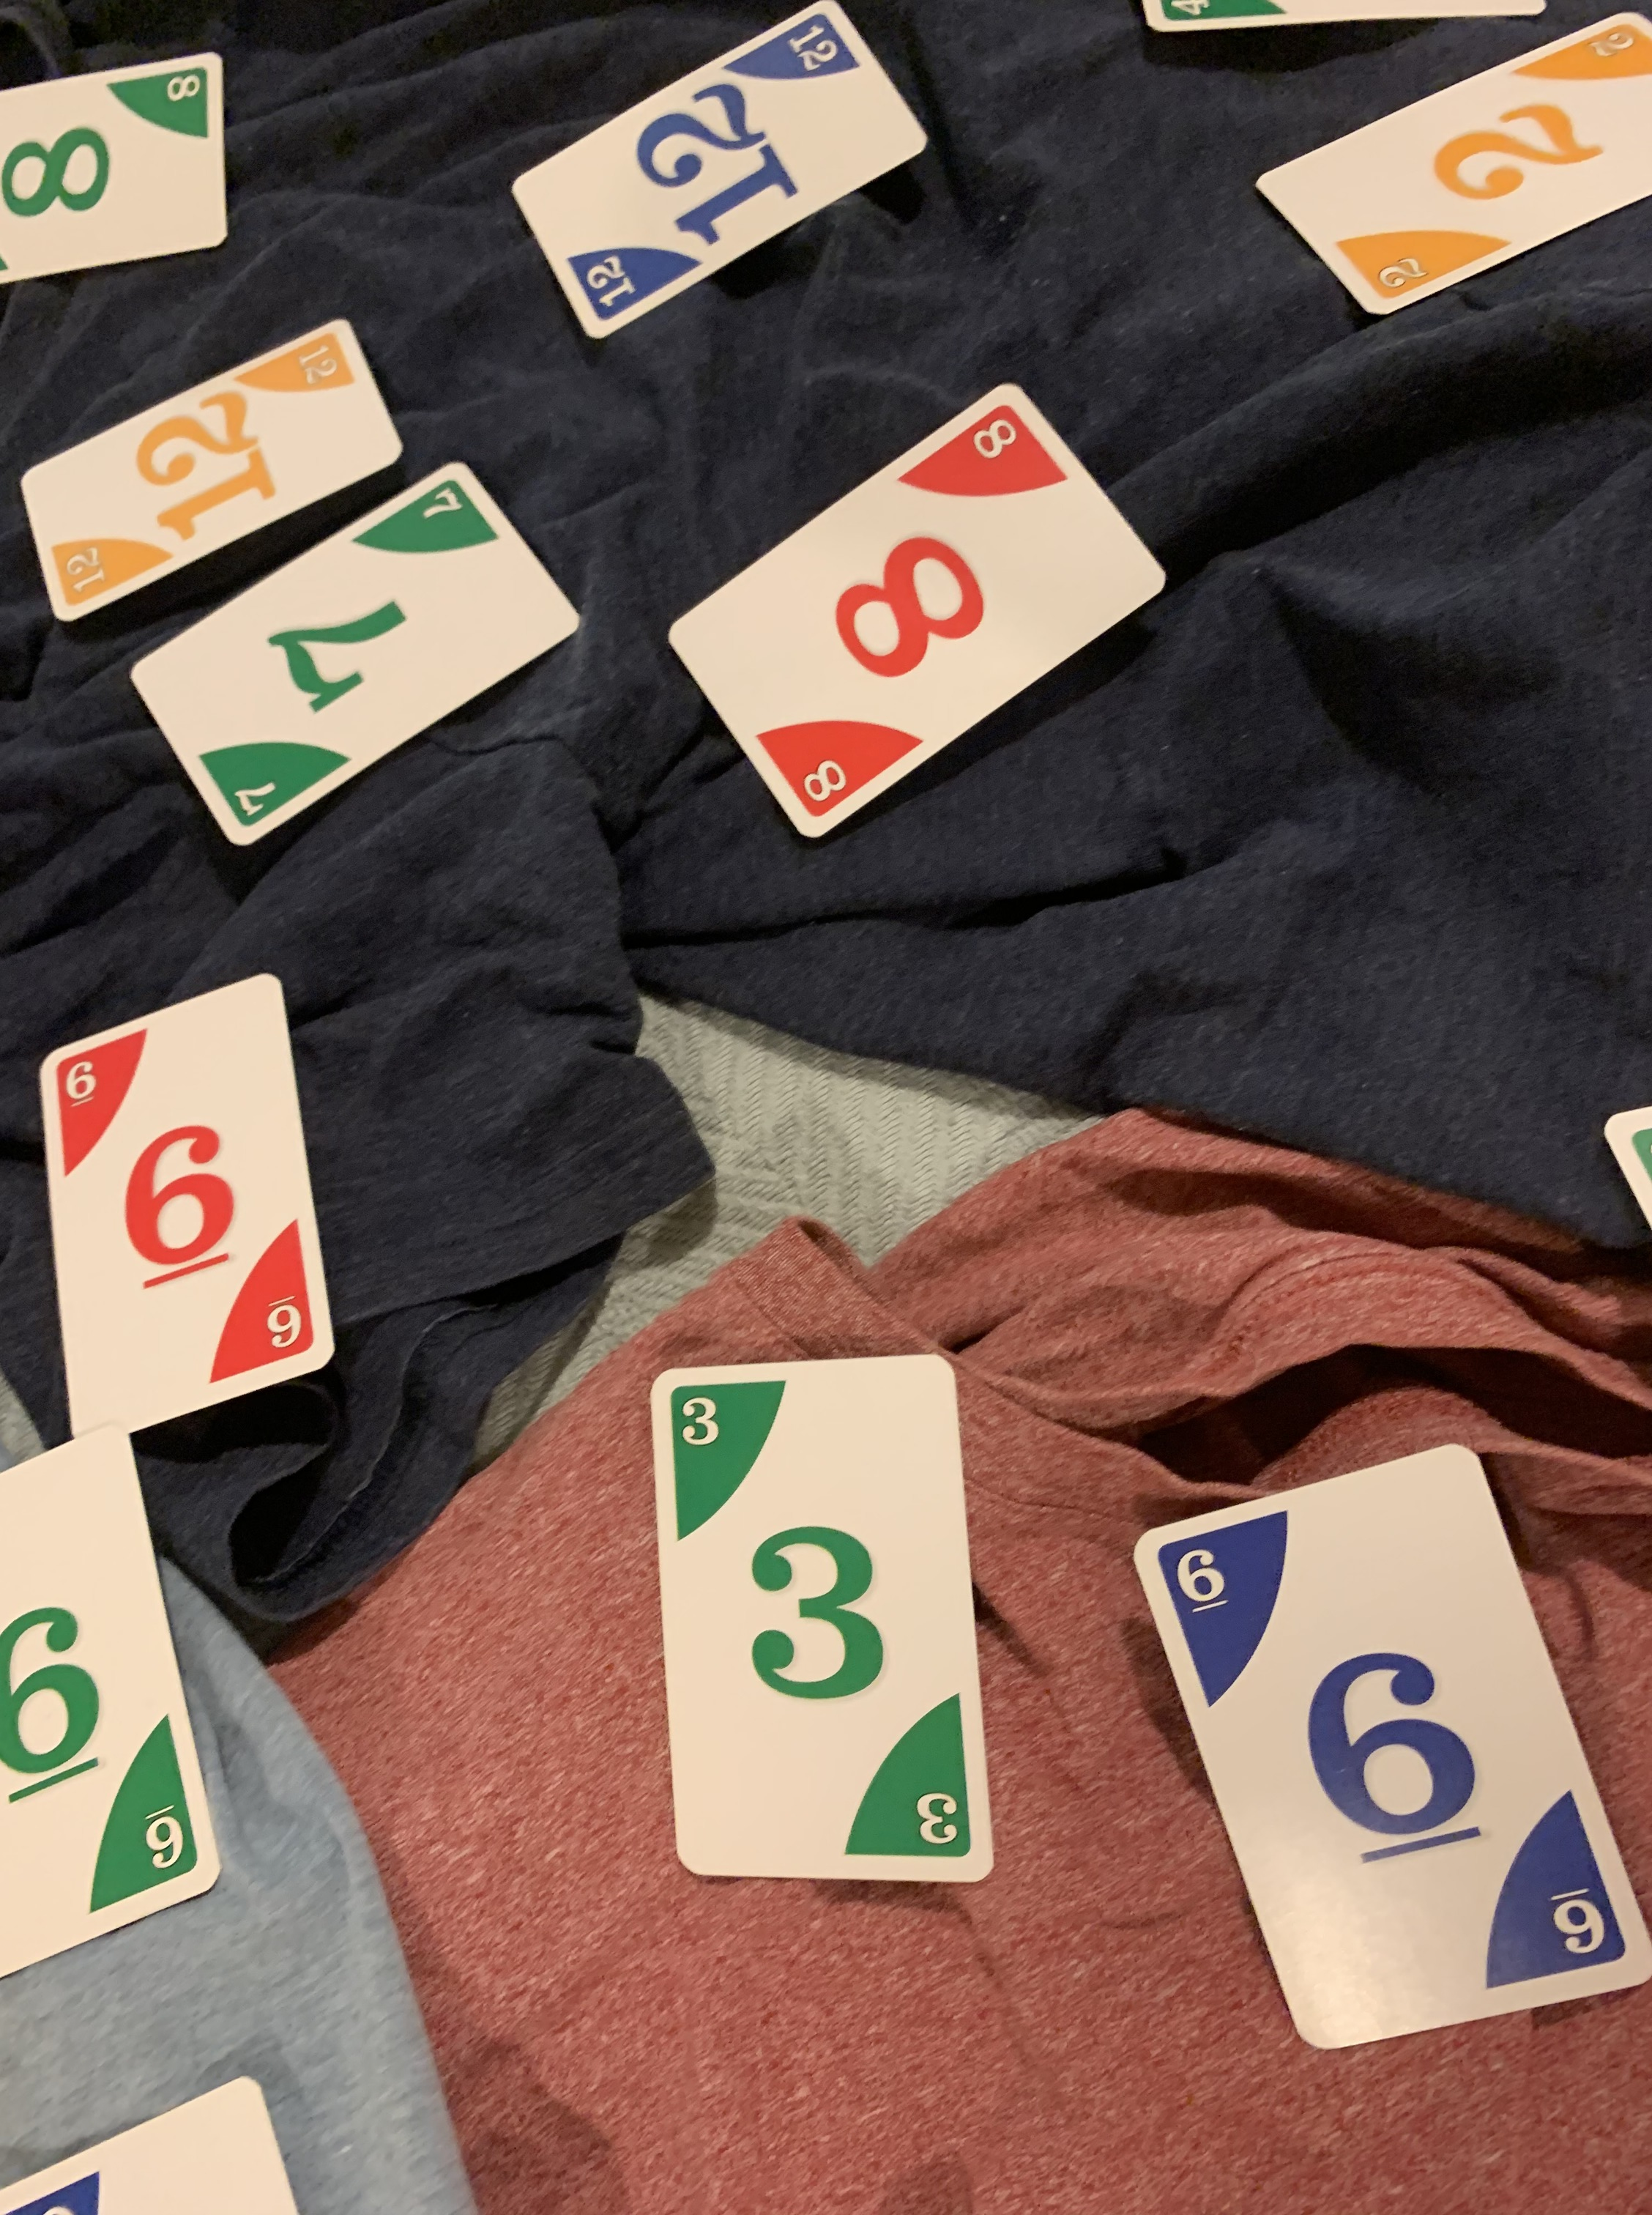eight: (652, 389, 1170, 845)
seven: (139, 455, 581, 847)
six: (1133, 1446, 1652, 2061), (35, 979, 337, 1449)
three: (640, 1342, 998, 1892)
